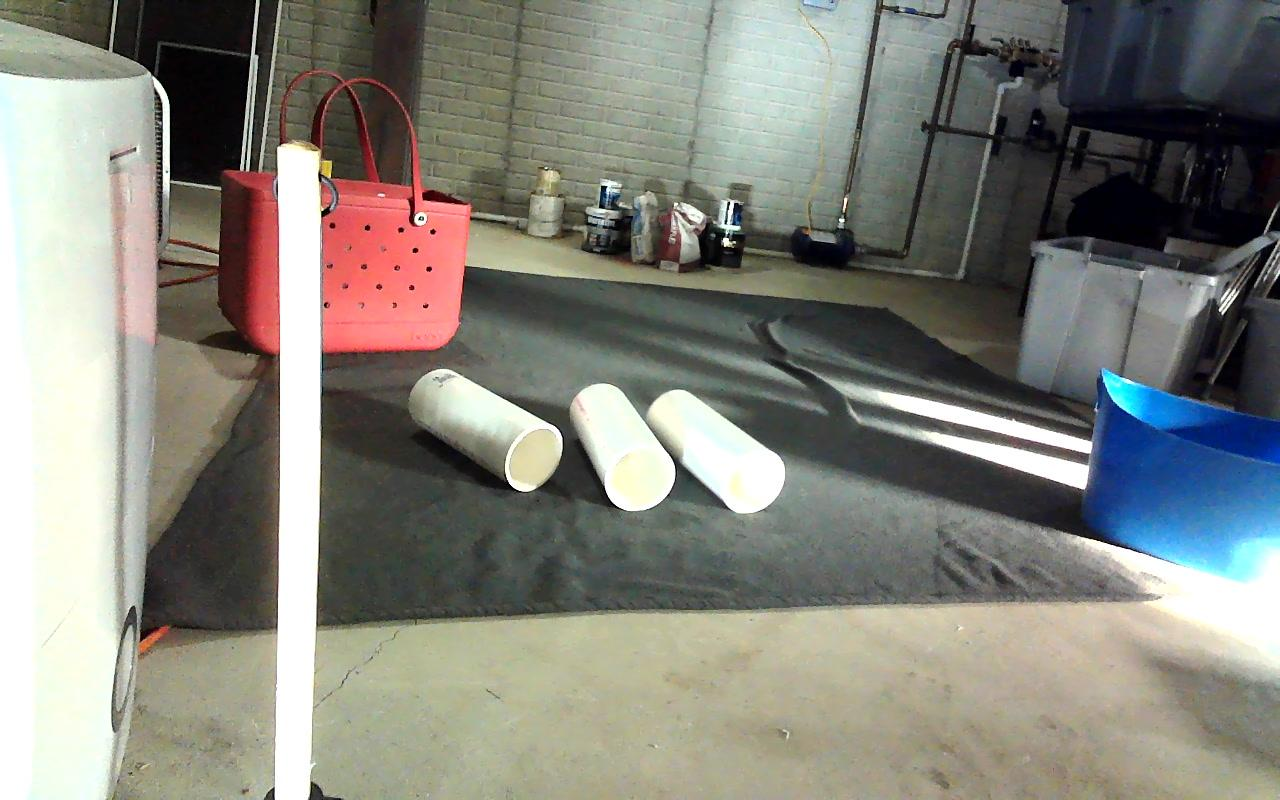coral: (407, 369, 565, 490), (650, 391, 784, 513), (570, 382, 672, 513)
